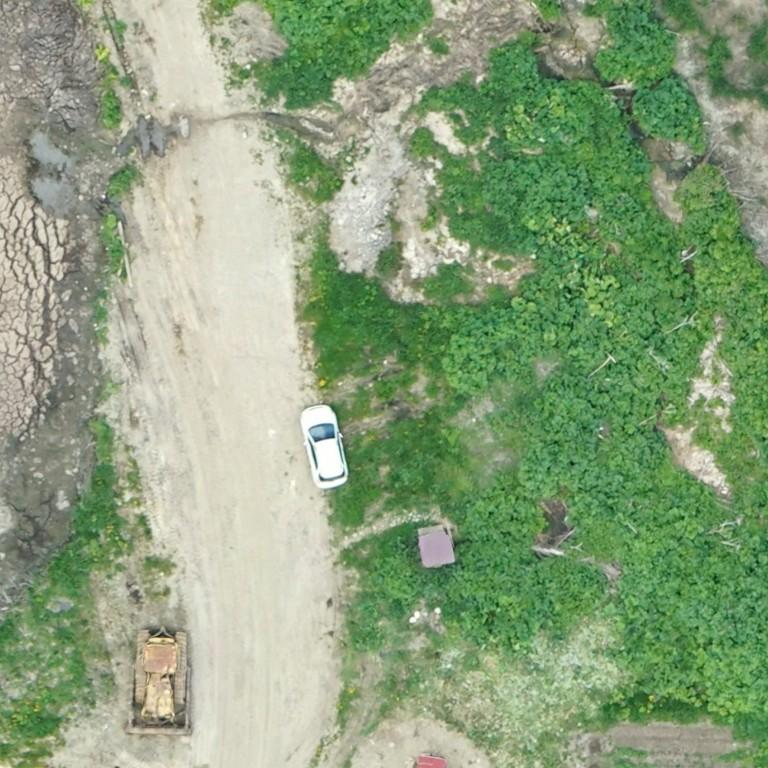hogweed: (380, 238, 767, 705), (671, 165, 767, 517), (480, 81, 673, 246), (257, 0, 428, 110), (423, 43, 539, 144), (595, 0, 677, 84), (632, 77, 701, 142)
